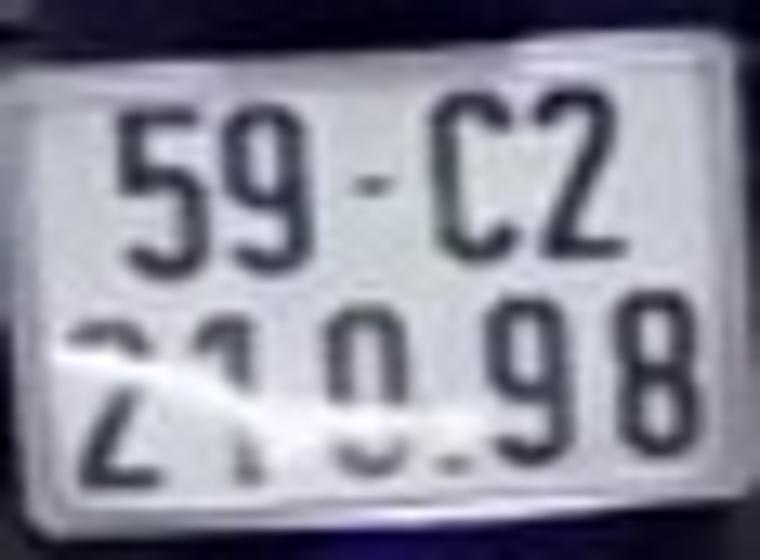-: (343, 167, 397, 205)
.: (433, 449, 470, 478)
0: (327, 301, 409, 481)
1: (191, 303, 262, 482)
2: (62, 315, 165, 486), (532, 85, 628, 267)
5: (108, 107, 217, 281)
8: (600, 287, 705, 456)
9: (219, 104, 317, 277), (478, 301, 577, 464)
C: (422, 88, 517, 258)
